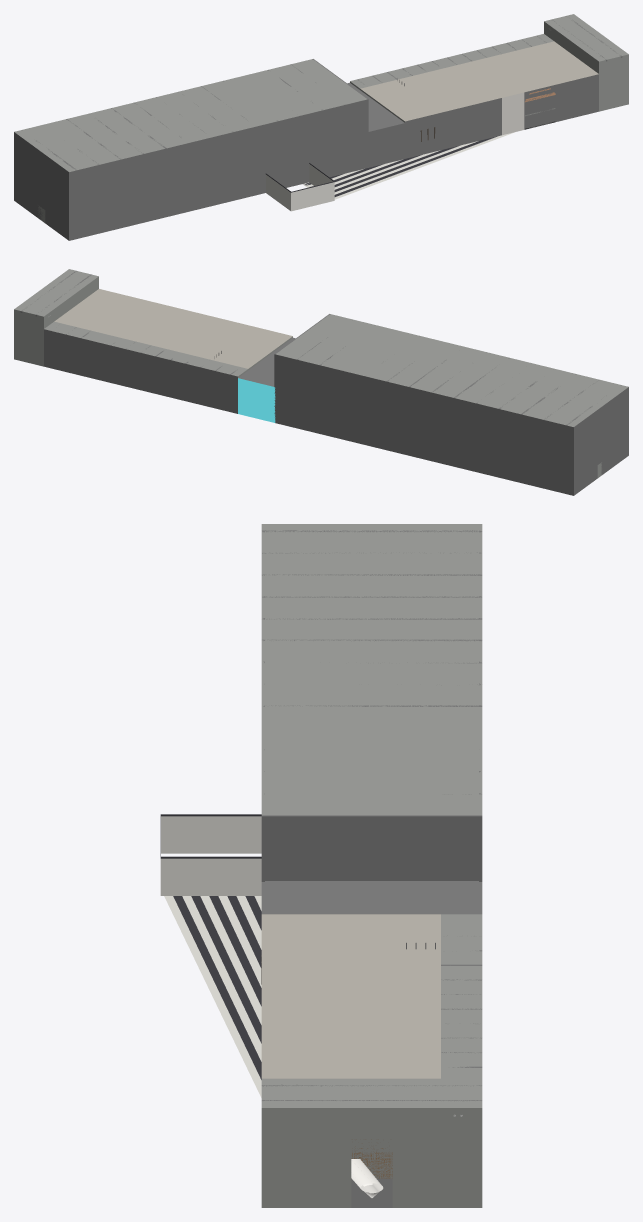
Rendered from Nautilus_Interior_Aft.fbx.
3 views of the same model, one above another, from view 1: azimuth 30°, elevation 25°; view 2: azimuth 150°, elevation 25°; view 3: azimuth 270°, elevation 25° (orthographic). The views are drawn at different scales.
Parts seen in each view (by area): view 1: engine_room_shell__col, crew_shell__col, bathroom__col, hall_shell__col, kitchen_shell__col, robing_shell__col, ned_conseil_shell__col, engine_room__col, corridor_shell__col, bathroom_shell__col, engine_passage_shell__col; view 2: engine_room_shell__col, corridor_shell__col, hall_shell__col, crew_shell__col, engine_room__col, kitchen_shell__col, robing_shell__col, sea_lobby_shell__col, ned_conseil_shell__col, bathroom_shell__col, corridor__col, cell_shell__col; view 3: engine_room_shell__col, hall_shell__col, bathroom__col, crew_shell__col, kitchen_shell__col, corridor_shell__col, robing_shell__col, engine_room__col, bathroom_shell__col, cell_shell__col, engine_passage_shell__col, ned_conseil_shell__col (+1 smaller).
Boxes of the visible parts, left/top/right/bottom form: engine_room_shell__col: left=14, top=59, right=367, bottom=240; crew_shell__col: left=398, top=65, right=501, bottom=149; bathroom__col: left=265, top=132, right=515, bottom=211; hall_shell__col: left=544, top=14, right=628, bottom=111; kitchen_shell__col: left=480, top=48, right=569, bottom=129; robing_shell__col: left=360, top=79, right=442, bottom=158; ned_conseil_shell__col: left=525, top=41, right=598, bottom=118; engine_room__col: left=22, top=59, right=368, bottom=239; corridor_shell__col: left=350, top=34, right=553, bottom=89; bathroom_shell__col: left=457, top=59, right=524, bottom=135; engine_passage_shell__col: left=367, top=110, right=404, bottom=167; engine_room_shell__col: left=275, top=314, right=628, bottom=495; corridor_shell__col: left=44, top=321, right=248, bottom=413; hall_shell__col: left=14, top=269, right=98, bottom=366; crew_shell__col: left=151, top=312, right=255, bottom=359; engine_room__col: left=274, top=314, right=621, bottom=494; kitchen_shell__col: left=84, top=296, right=172, bottom=339; robing_shell__col: left=211, top=327, right=292, bottom=369; sea_lobby_shell__col: left=238, top=370, right=275, bottom=422; ned_conseil_shell__col: left=54, top=289, right=128, bottom=328; bathroom_shell__col: left=129, top=307, right=195, bottom=344; corridor__col: left=50, top=327, right=237, bottom=412; cell_shell__col: left=248, top=350, right=277, bottom=376; engine_room_shell__col: left=261, top=524, right=482, bottom=880; hall_shell__col: left=261, top=1078, right=482, bottom=1207; bathroom__col: left=160, top=814, right=383, bottom=1197; crew_shell__col: left=261, top=950, right=440, bottom=1008; kitchen_shell__col: left=261, top=1031, right=440, bottom=1074; corridor_shell__col: left=441, top=914, right=482, bottom=1078; robing_shell__col: left=261, top=914, right=440, bottom=950; engine_room__col: left=261, top=530, right=482, bottom=881; bathroom_shell__col: left=261, top=1009, right=440, bottom=1030; cell_shell__col: left=330, top=881, right=440, bottom=914; engine_passage_shell__col: left=261, top=881, right=330, bottom=914; ned_conseil_shell__col: left=261, top=1074, right=440, bottom=1178.
Size of the model in its own units: 37.82 by 5.15 by 9.33.
